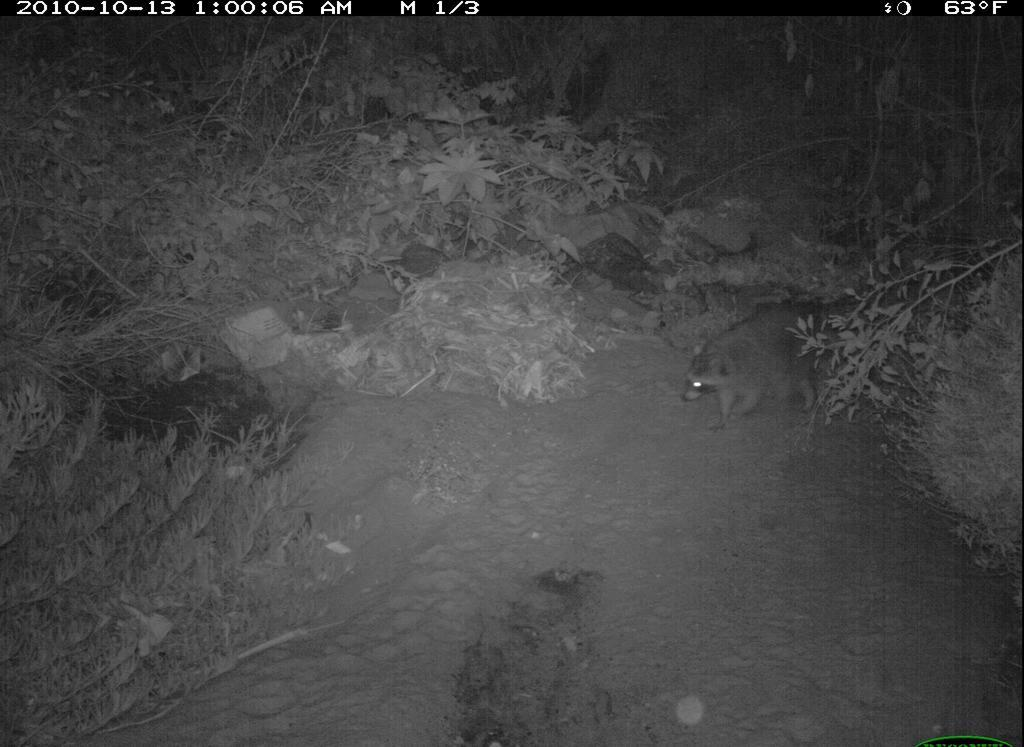raccoon: (651, 286, 866, 470)
